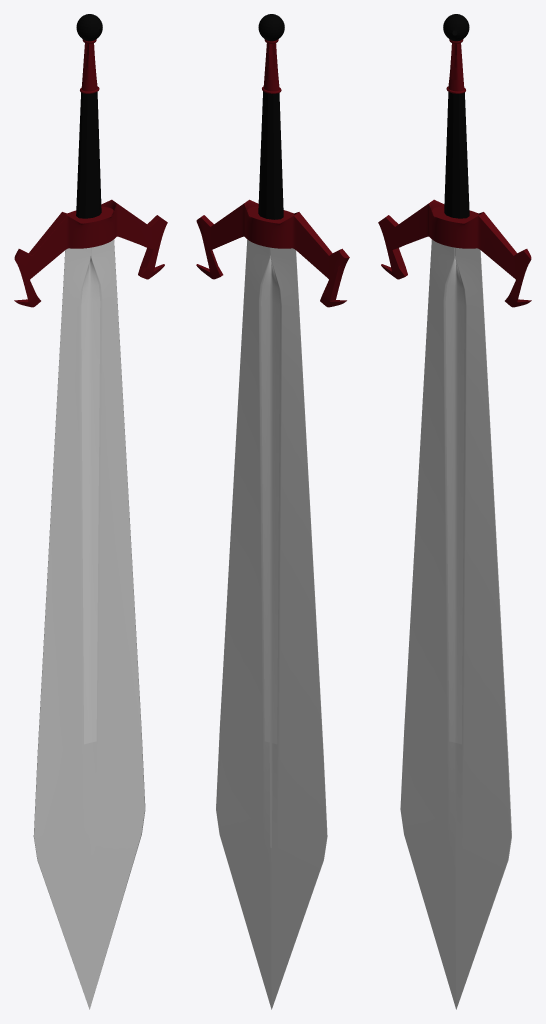
The model's file is Reduced_Poly_sword_2.fbx.
The picture shows the model from 3 angles, left to right: view 1: azimuth 30°, elevation 25°; view 2: azimuth 150°, elevation 25°; view 3: azimuth 330°, elevation 25°; orthographic projection.
Visible parts, largest first — view 1: Cube, Cylinder, Cylinder.001, Cylinder.002, Sphere; view 2: Cube, Cylinder, Cylinder.001, Cylinder.002, Sphere; view 3: Cube, Cylinder, Cylinder.001, Cylinder.002, Sphere.
Part boxes in pixels (x1,y1,x2,y2): Cube: [33, 239, 145, 1009]; Cylinder: [14, 199, 167, 307]; Cylinder.001: [76, 92, 101, 218]; Cylinder.002: [80, 39, 99, 93]; Sphere: [76, 14, 102, 41]; Cube: [216, 239, 327, 1009]; Cylinder: [196, 199, 349, 307]; Cylinder.001: [258, 91, 283, 219]; Cylinder.002: [262, 39, 281, 93]; Sphere: [258, 14, 284, 41]; Cube: [400, 239, 511, 1009]; Cylinder: [378, 199, 531, 307]; Cylinder.001: [444, 92, 469, 218]; Cylinder.002: [446, 39, 465, 93]; Sphere: [443, 14, 469, 41].
Size of the model in its own units: 25.19 by 156 by 4.68.
